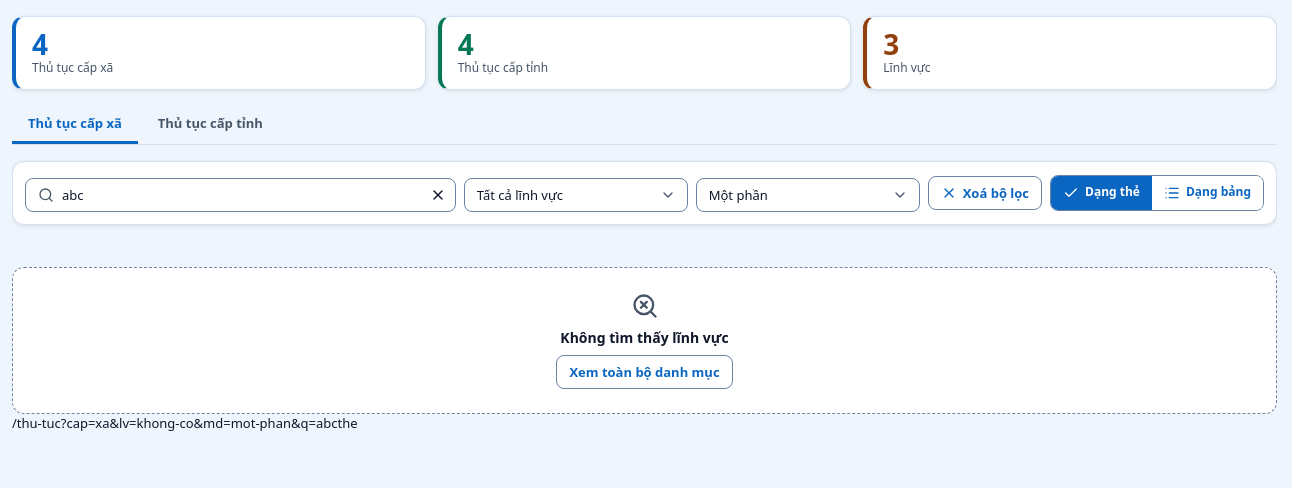
it: DanhMuc — lĩnh vực lạ và không có kết quả (AC-11, AC-14, AC-20, AC-22) › AC-11: lv không có trong dữ liệu → "Không tìm thấy lĩnh vực", không nhắc mã; bấm nút → đủ danh mục, con trỏ ở ô tìm
Expected: the text "Không tìm thấy lĩnh vực" is shown, [560,328,729,347]
Expected: the 1st dropdown named "Lĩnh vực" shows "Tất cả lĩnh vực", [464,178,688,212]
Click the button "Xem toàn bộ danh mục". click: (644, 372)
box: [556,355,733,389]
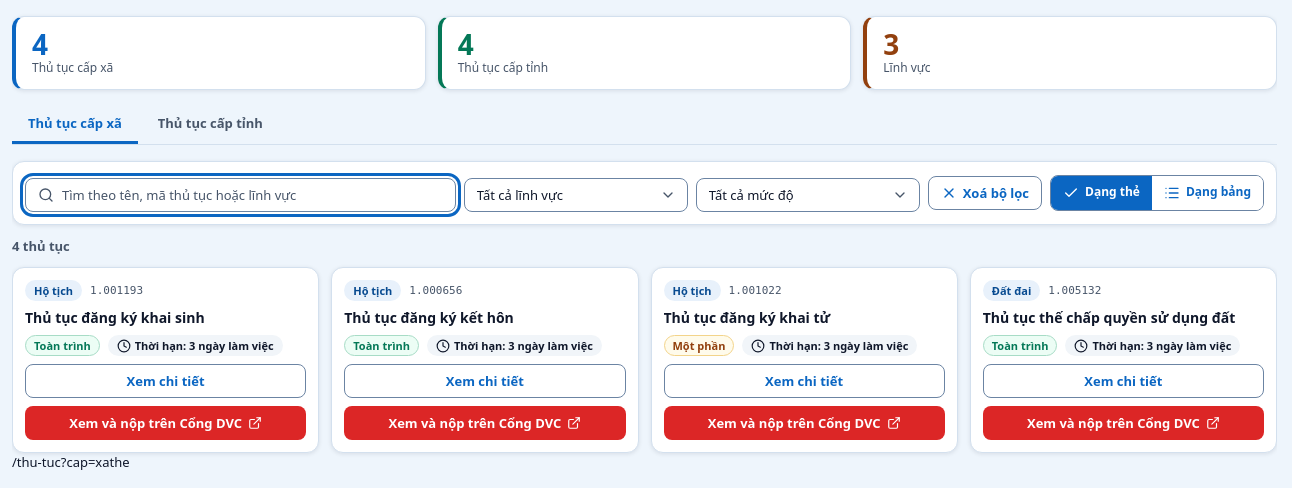
Expected: the text "Không tìm thấy lĩnh vực" is gone
Expected: the number of headings is 4, [25,308,205,327]; [344,308,514,327]; [664,308,830,327]; [983,309,1264,327]
Expected: the text with test id "dia-chi" reads "/thu-tuc?cap=xa", [12,454,110,472]
